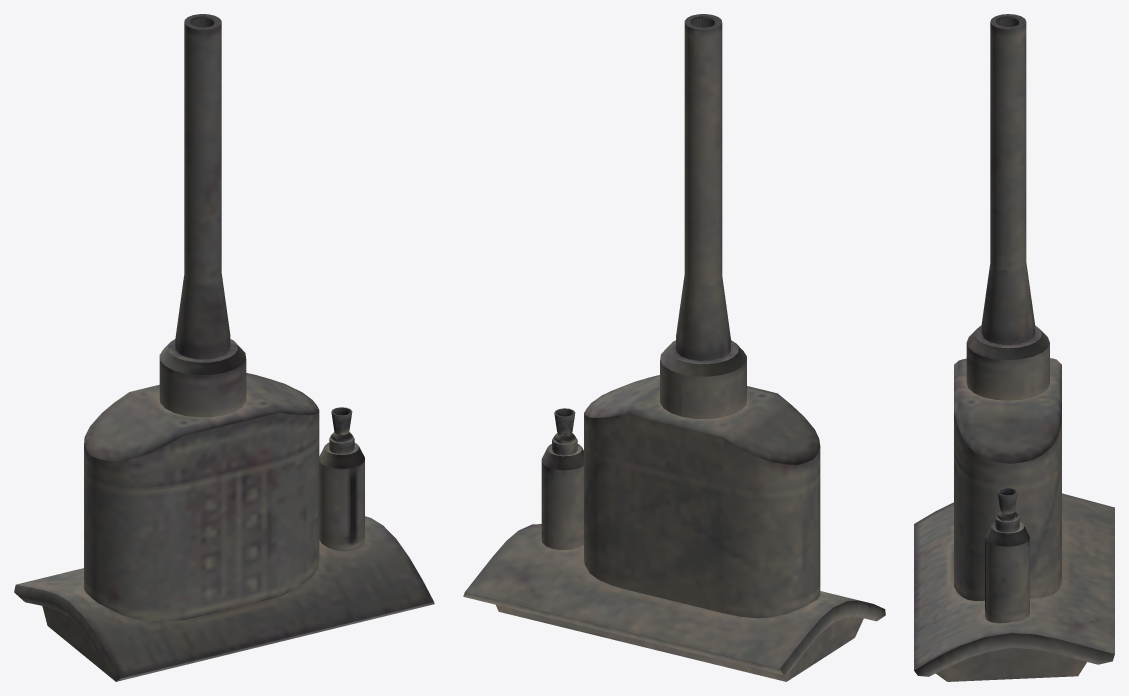
Rendered from Gun_04.glb.
3 views of the same model, side by side, from view 1: azimuth 30°, elevation 25°; view 2: azimuth 150°, elevation 25°; view 3: azimuth 270°, elevation 25° (orthographic). The views are drawn at different scales.
Visible parts, largest first — view 1: set_0_group_0; view 2: set_0_group_0; view 3: set_0_group_0.
Part boxes in pixels (box(x1,y1,x2,y2)): set_0_group_0: box(14, 14, 434, 681); set_0_group_0: box(463, 14, 885, 681); set_0_group_0: box(914, 14, 1114, 681).
Bounding box in the file's own units: 0.7787 × 1.42 × 0.443.
1 material, 1 textured.
